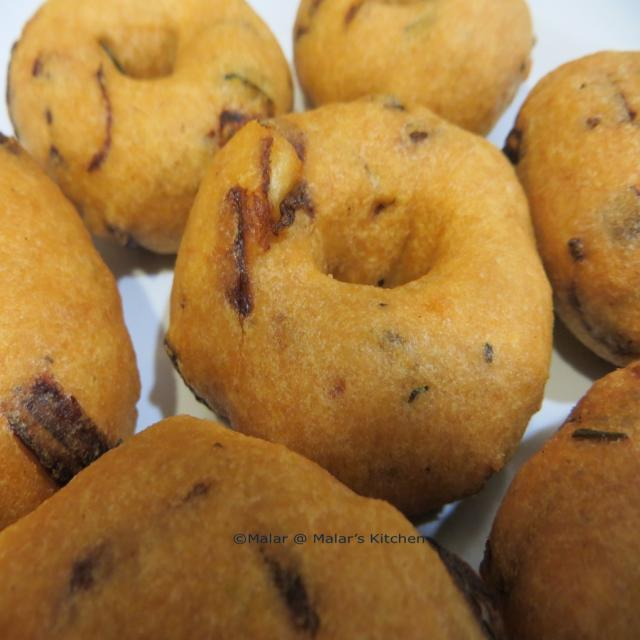Vada: (163, 96, 555, 524), (0, 415, 510, 640), (6, 0, 296, 258), (0, 137, 142, 533), (483, 359, 640, 640), (503, 51, 640, 365), (293, 0, 538, 141)
